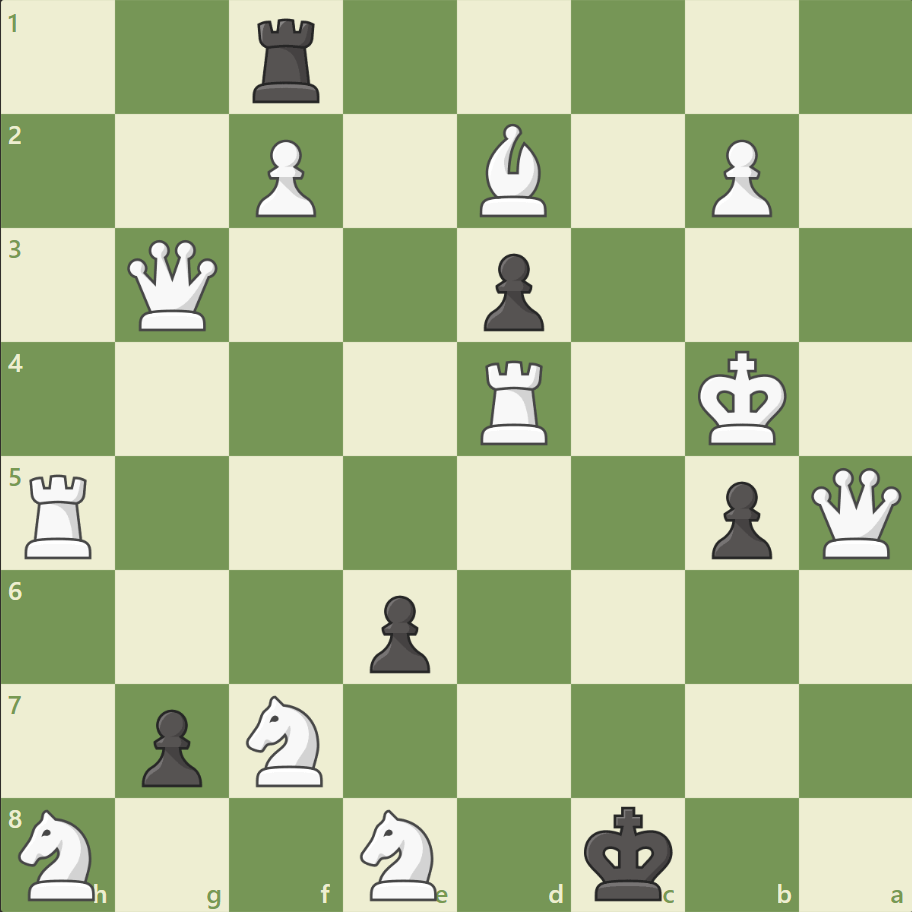B: (471, 120, 555, 222)
K: (692, 344, 792, 452)
N: (351, 802, 449, 904), (238, 688, 335, 791), (11, 802, 108, 904)
P: (701, 132, 776, 223), (247, 132, 322, 223)
Q: (805, 463, 904, 562), (124, 236, 223, 335)
R: (19, 466, 102, 563), (473, 352, 556, 449)
k: (579, 798, 679, 906)
p: (133, 700, 208, 791), (701, 473, 776, 564), (474, 246, 549, 337), (361, 586, 435, 677)
r: (246, 12, 329, 109)
